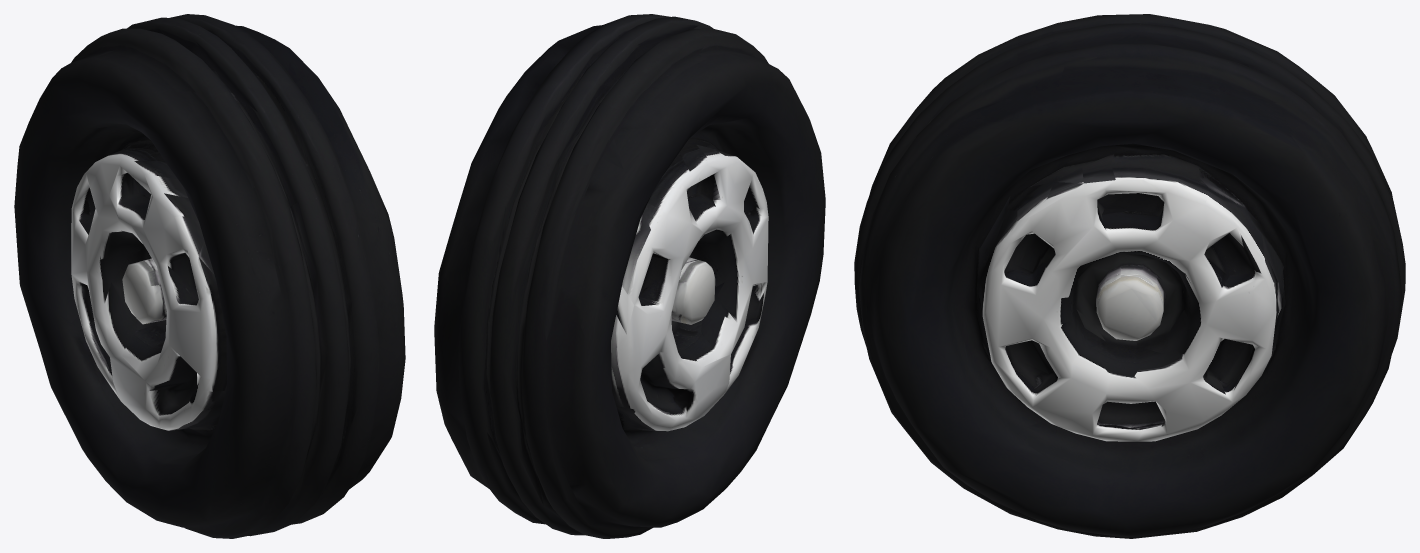
The model's file is minicar_wheel.obj.
3 renders of one model, left to right at view 1: azimuth 30°, elevation 25°; view 2: azimuth 150°, elevation 25°; view 3: azimuth 270°, elevation 25°, orthographic. The views are drawn at different scales.
Visible parts, largest first — view 1: wheel; view 2: wheel; view 3: wheel.
Part boxes in pixels (bbox=[...]): wheel: bbox=[14, 14, 405, 538]; wheel: bbox=[434, 14, 825, 538]; wheel: bbox=[854, 14, 1405, 538].
Size of the model in its own units: 0.2544 by 0.6969 by 0.6973.
